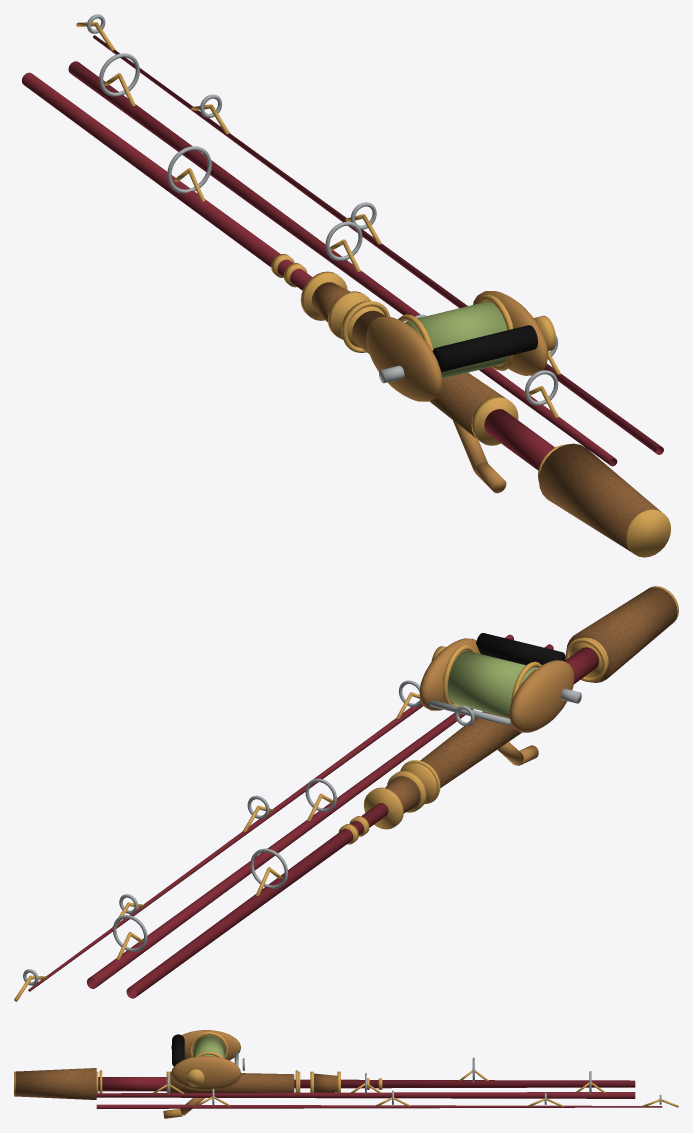
Rendered from heron_lure_folded.glb.
3 renders of one model, top to bottom at view 1: azimuth 30°, elevation 25°; view 2: azimuth 150°, elevation 25°; view 3: azimuth 270°, elevation 25°, orthographic. The views are drawn at different scales.
Visible parts, largest first — view 1: Folded rod; view 2: Folded rod; view 3: Folded rod.
Part boxes in pixels (left/top/right/bottom): Folded rod: left=22, top=14, right=670, bottom=557; Folded rod: left=14, top=586, right=678, bottom=1001; Folded rod: left=14, top=1030, right=678, bottom=1118.
Bounding box in the file's own units: 0.1244 × 0.0943 × 0.7405.
7 materials, 2 textured.
